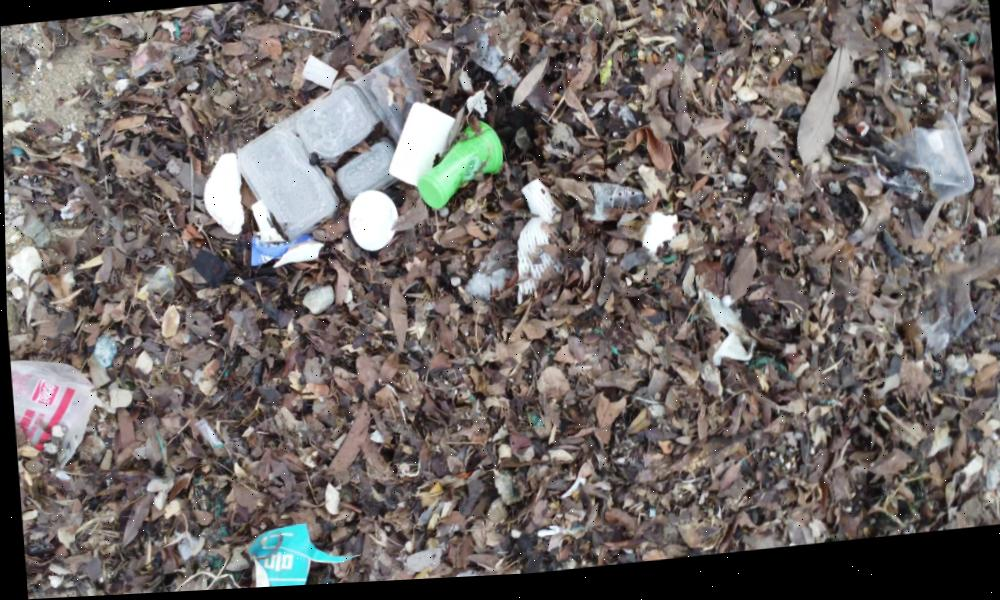plastic bag: (8, 342, 106, 475)
plastic container: (236, 76, 434, 238)
